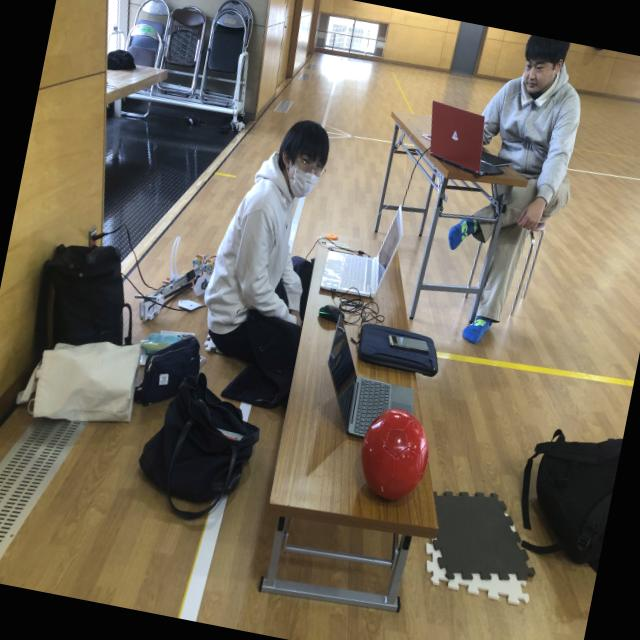red_ball: (353, 404, 436, 509)
